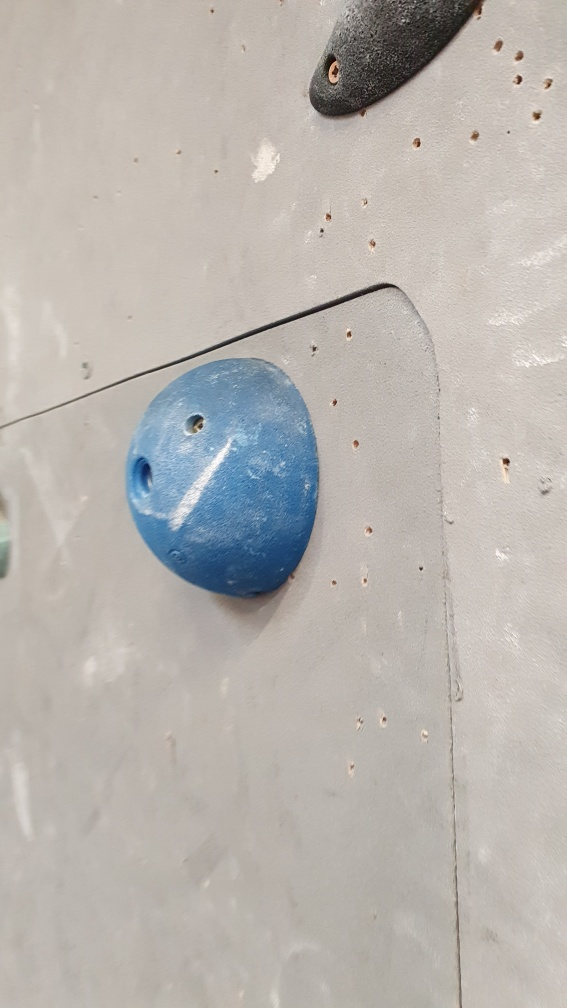Sloper: (119, 354, 321, 600)
